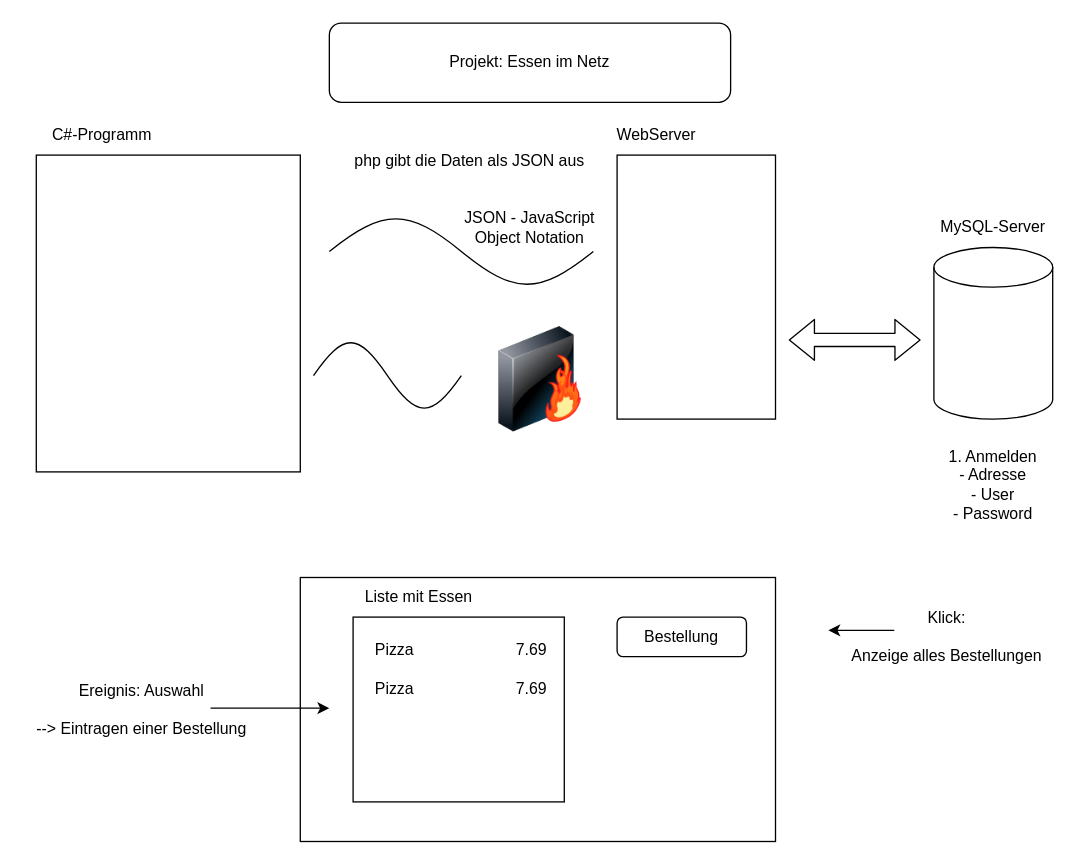
This 1076x865 diagram has some shape labels left out. Here are the shapes that lost their labels. From the top down, the centre of each, then its label:
At (x=696, y=286): "php-Skript".
At (x=386, y=374): "Internet".
